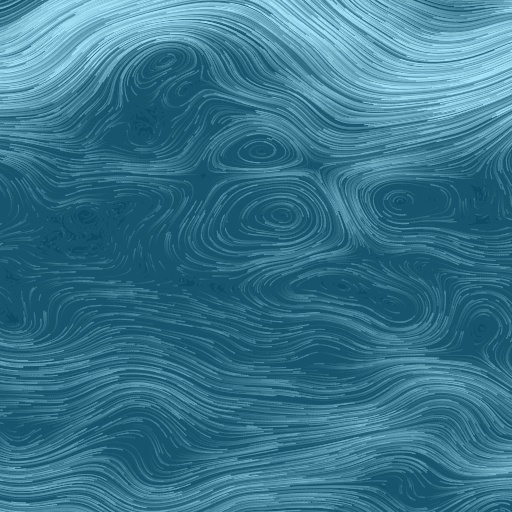eddy: (297, 260, 425, 332), (217, 183, 321, 251), (364, 175, 455, 225), (218, 129, 296, 170), (130, 43, 192, 89), (462, 306, 503, 351)
